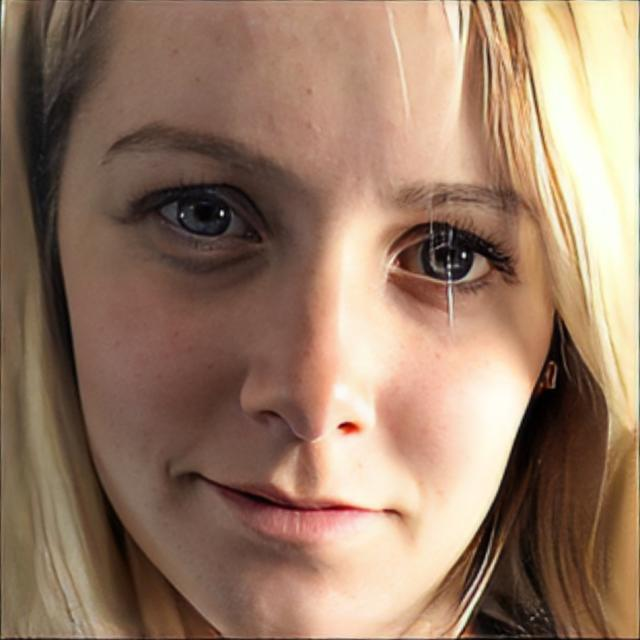content: (56, 2, 558, 640)
